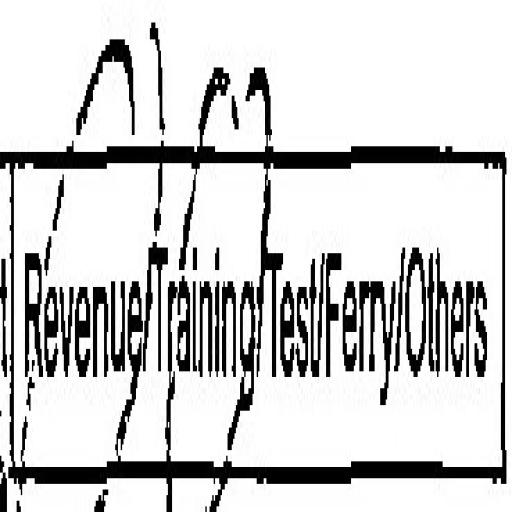check: (10, 27, 144, 512), (145, 22, 267, 512)
